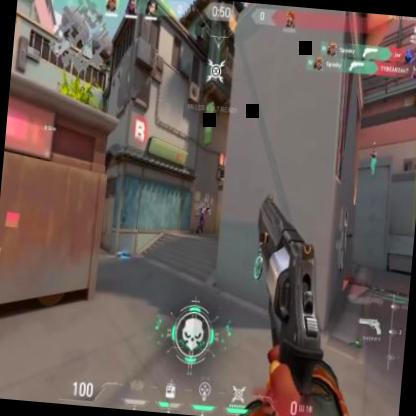enemy: (196, 201, 208, 235)
enemy_head: (202, 203, 206, 207)
